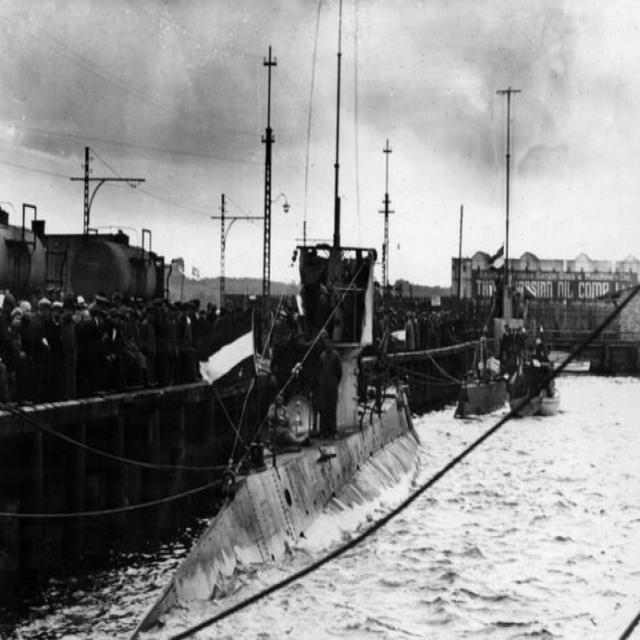submarine: (126, 245, 421, 640)
